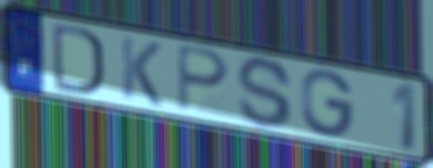1: (389, 80, 417, 153)
D: (49, 19, 107, 98)
G: (299, 67, 356, 139)
K: (118, 32, 165, 110)
P: (175, 42, 233, 115)
S: (235, 54, 296, 132)
